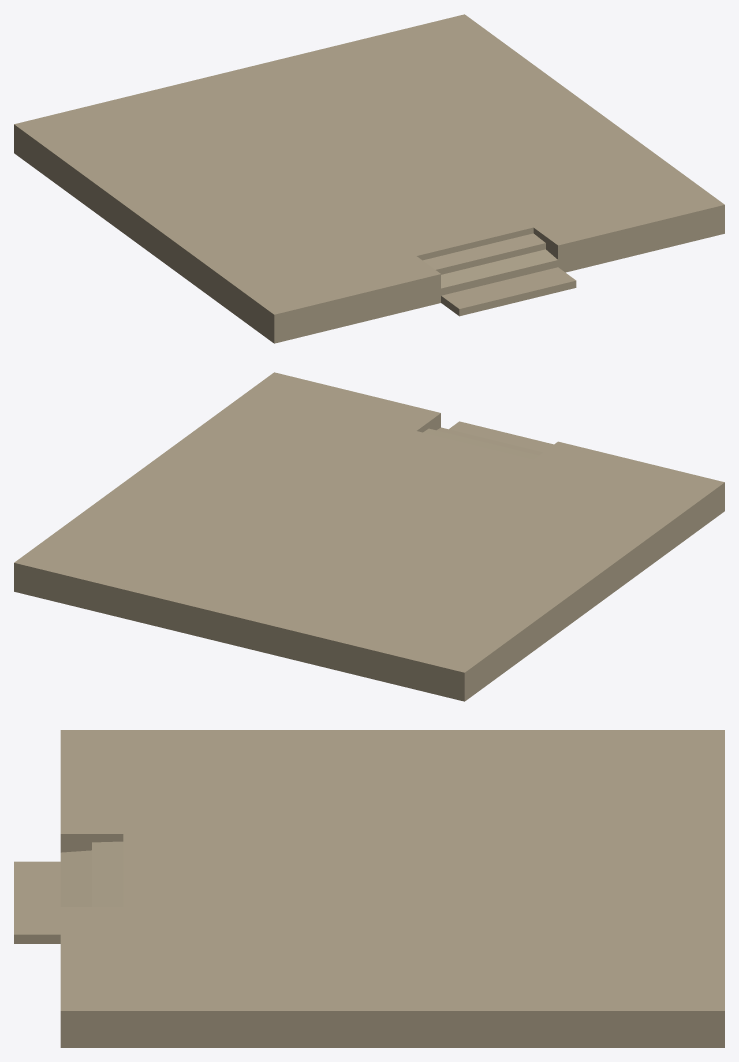
The model's file is Monument_Floor.fbx.
3 views of the same model, one above another, from view 1: azimuth 30°, elevation 25°; view 2: azimuth 150°, elevation 25°; view 3: azimuth 270°, elevation 25° (orthographic). The views are drawn at different scales.
Parts seen in each view (by area): view 1: Monument_Floor; view 2: Monument_Floor; view 3: Monument_Floor.
Boxes of the visible parts, x1=… form: Monument_Floor: x1=14, y1=14, x2=724, y2=343; Monument_Floor: x1=14, y1=372, x2=724, y2=701; Monument_Floor: x1=14, y1=730, x2=724, y2=1047.
Bounding box in the file's own units: 678 × 633 × 38.86.
